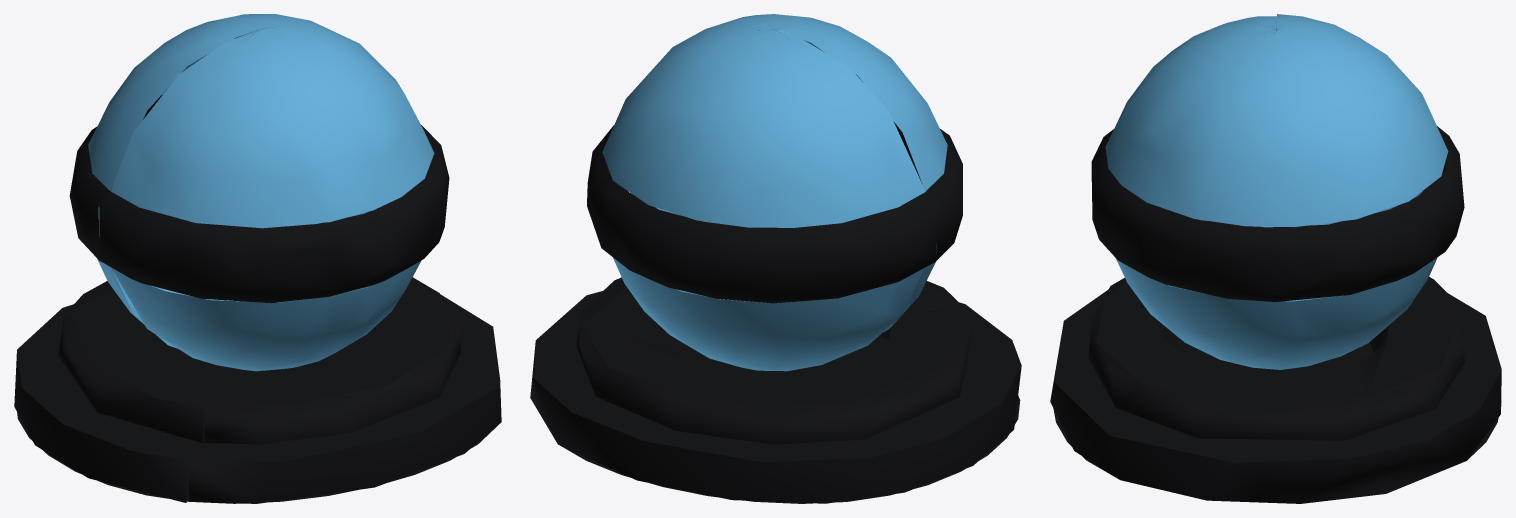
Rendered from teleskop.glb.
3 renders of one model, left to right at view 1: azimuth 30°, elevation 25°; view 2: azimuth 150°, elevation 25°; view 3: azimuth 270°, elevation 25°, orthographic.
Parts seen in each view (by area): view 1: Cube; view 2: Cube; view 3: Cube.
Part boxes in pixels (x1,y1,x2,y2): Cube: (14,14,501,503); Cube: (530,14,1021,503); Cube: (1050,14,1501,503).
Size of the model in its own units: 2.71 by 2.29 by 2.52.
